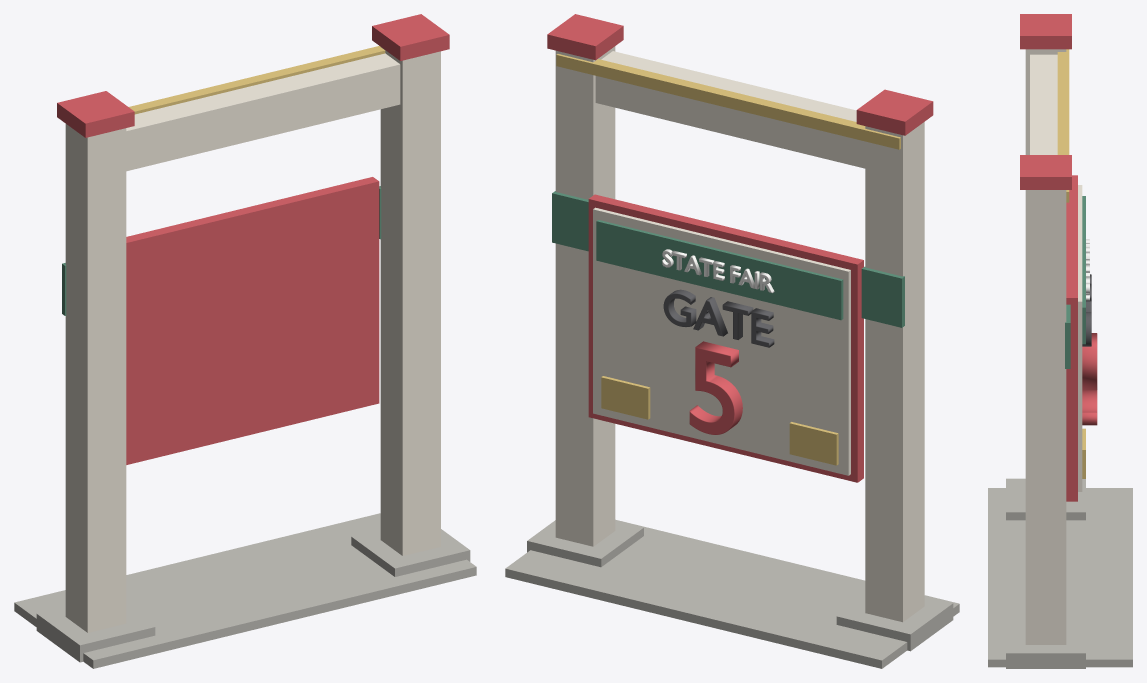
File: state-fair-gate-05.glb
The picture shows the model from 3 angles, left to right: view 1: azimuth 30°, elevation 25°; view 2: azimuth 150°, elevation 25°; view 3: azimuth 270°, elevation 25°; orthographic projection. The views are drawn at different scales.
Parts seen in each view (by area): view 1: SFG_SignBack, SFG_PostL, SFG_PostR, SFG_Pad, SFG_HeaderBeam, SFG_FootingL, SFG_FootingR, SFG_PostCapL, SFG_PostCapR, SFG_HeaderAccent; view 2: SFG_SignFace, SFG_PostL, SFG_Pad, SFG_PostR, SFG_HeaderBeam, SFG_Ribbon, SFG_SignBack, SFG_HeaderAccent, SFG_GateNumber, SFG_FootingL, SFG_GateLabel, SFG_FootingR (+7 smaller); view 3: SFG_PostR, SFG_Pad, SFG_SignBack, SFG_FootingR, SFG_HeaderBeam, SFG_PostCapL, SFG_PostCapR, SFG_SignFace, SFG_HeaderAccent, SFG_FootingL, SFG_GateNumber, SFG_PostL (+4 smaller).
Boxes of the visible parts, bbox=[...] form: SFG_SignBack: bbox=[126, 177, 379, 464]; SFG_PostL: bbox=[65, 124, 126, 632]; SFG_PostR: bbox=[380, 47, 440, 555]; SFG_Pad: bbox=[14, 513, 476, 668]; SFG_HeaderBeam: bbox=[126, 53, 400, 171]; SFG_FootingL: bbox=[36, 606, 155, 662]; SFG_FootingR: bbox=[351, 529, 470, 576]; SFG_PostCapL: bbox=[57, 91, 134, 137]; SFG_PostCapR: bbox=[372, 14, 449, 60]; SFG_HeaderAccent: bbox=[129, 46, 385, 114]; SFG_SignFace: bbox=[593, 207, 850, 475]; SFG_PostL: bbox=[865, 122, 924, 622]; SFG_Pad: bbox=[505, 519, 959, 668]; SFG_PostR: bbox=[555, 46, 615, 546]; SFG_HeaderBeam: bbox=[595, 51, 865, 168]; SFG_Ribbon: bbox=[596, 220, 843, 320]; SFG_SignBack: bbox=[588, 194, 863, 482]; SFG_HeaderAccent: bbox=[556, 54, 900, 149]; SFG_GateNumber: bbox=[689, 341, 742, 434]; SFG_FootingL: bbox=[836, 596, 953, 651]; SFG_GateLabel: bbox=[663, 289, 774, 347]; SFG_FootingR: bbox=[527, 520, 643, 567]; SFG_PostR: bbox=[1025, 190, 1066, 644]; SFG_Pad: bbox=[988, 488, 1132, 667]; SFG_SignBack: bbox=[1066, 175, 1077, 501]; SFG_FootingR: bbox=[1006, 619, 1085, 668]; SFG_HeaderBeam: bbox=[1030, 54, 1057, 154]; SFG_PostCapL: bbox=[1020, 14, 1071, 49]; SFG_PostCapR: bbox=[1020, 155, 1071, 189]; SFG_SignFace: bbox=[1078, 185, 1082, 491]; SFG_HeaderAccent: bbox=[1057, 49, 1069, 202]; SFG_FootingL: bbox=[1006, 478, 1085, 520]; SFG_GateNumber: bbox=[1082, 333, 1097, 425]; SFG_PostL: bbox=[1025, 49, 1066, 154].
Bounding box in the file's own units: 2.85 × 3.7 × 1.
